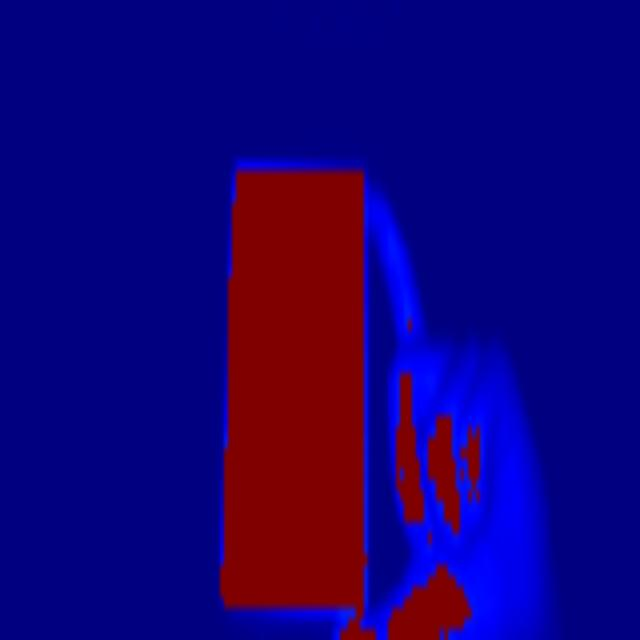hand: (377, 203, 570, 640)
rectangle: (222, 159, 374, 611)
